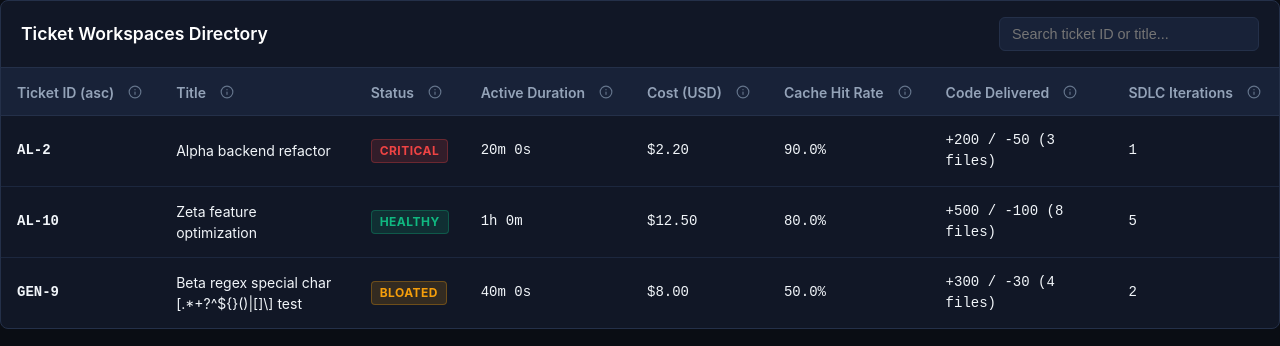
TicketTable Component › Adversarial Search Filtering › filters rows with regex special characters without crashing
In the field named "filter tickets": (1129, 34) [999,17,1259,51], type ".*+?"
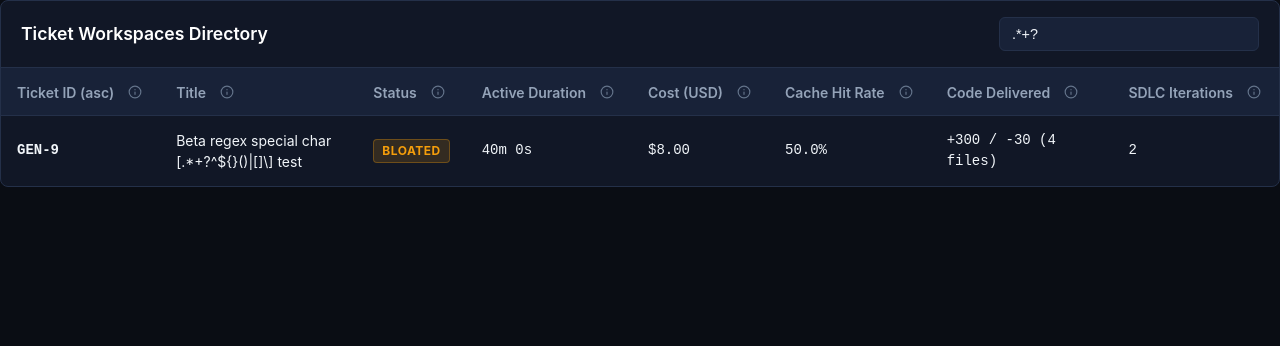
Expected: the text "GEN-9" is shown, [1,115,160,186]
Now the text "AL-10" is gone
Now the text "AL-2" is gone
